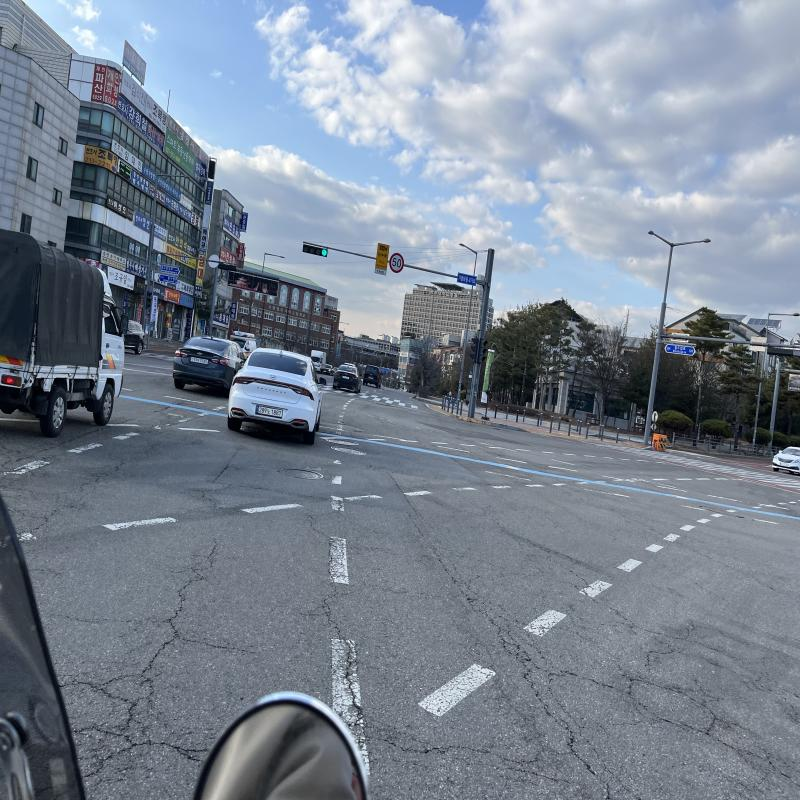green: (321, 248, 328, 257)
